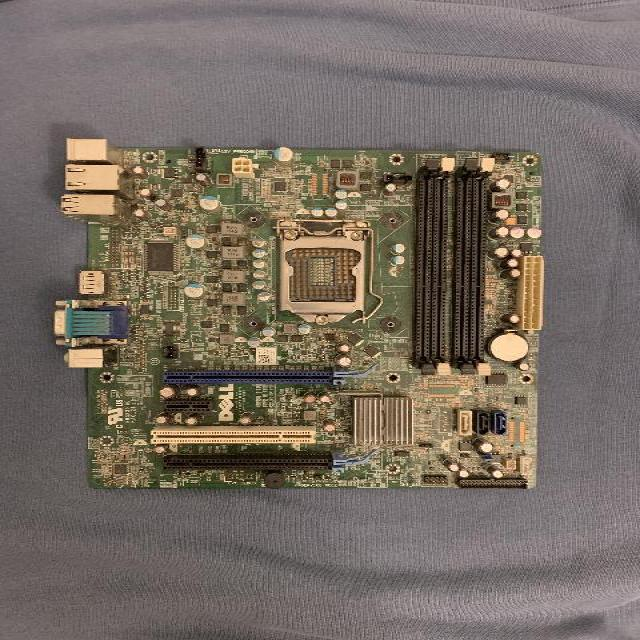Mainboard: (54, 138, 543, 490)
